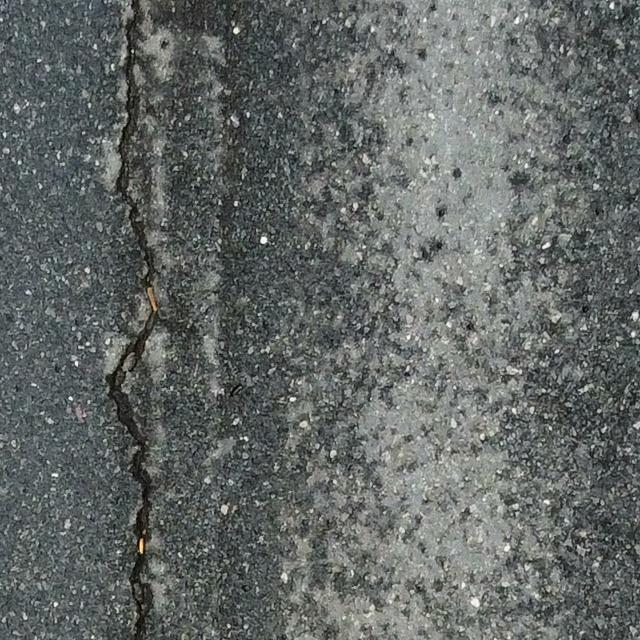LongitudinalCrack: (103, 1, 160, 640)
